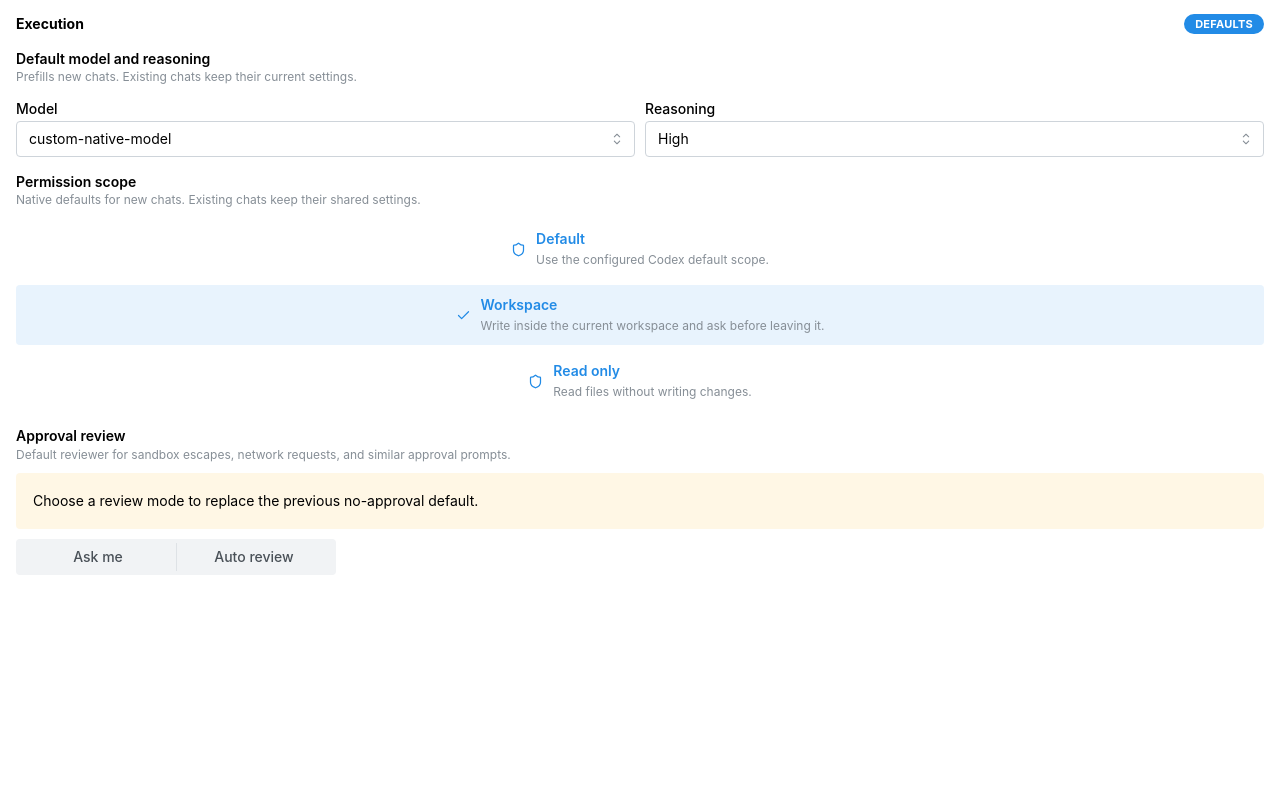
requires an explicit approval choice for a previous no-approval default and only writes changed fields
The image size is (1280, 800).
Expected: the text "Choose a review mode" is shown, [33,492,478,509]
Expected: the radio button labelled "Ask me" is not checked, [73,548,123,565]
What coordinates should you click on to do the following:
click the text "Auto review"
I would click on:
 (254, 556)
Its box is [214,548,294,565].
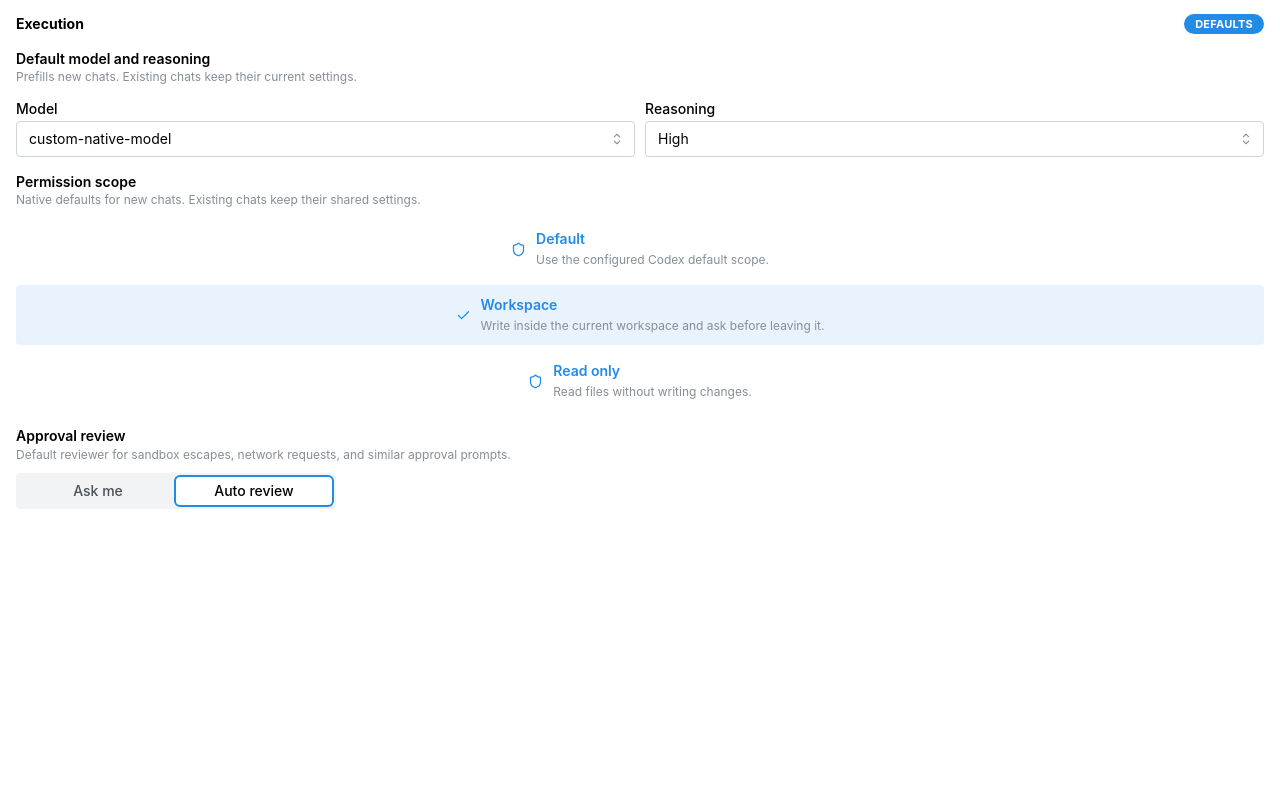
Now the radio button labelled "Auto review" is checked, box [214,482,294,499]
